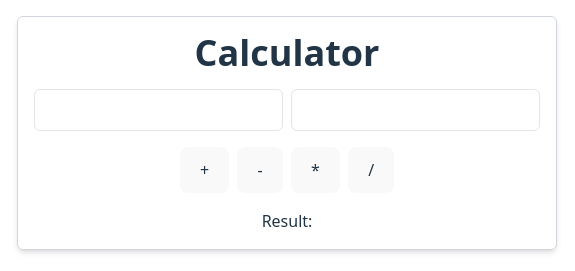
Test: HomePage Calculator › multiplies two numbers correctly
This screenshot has width=575, height=271.
Type "4" into the 1st field.
click(158, 110); type("4")  # box x1=34 y1=89 x2=283 y2=131
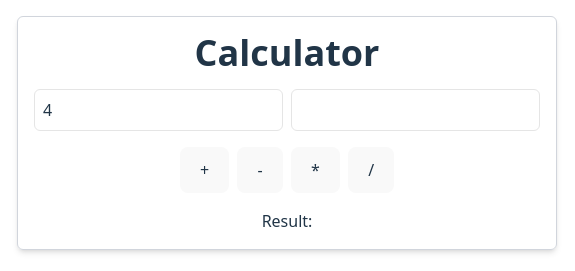
Type "3" into the 2nd field.
click(416, 110); type("3")  # box x1=291 y1=89 x2=540 y2=131
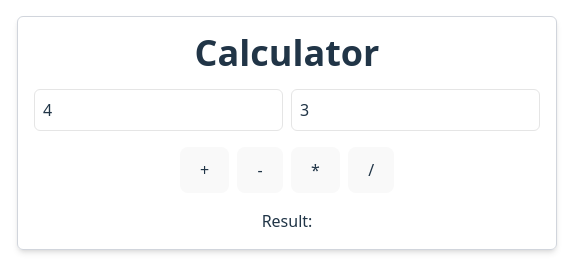
Click the button "*".
click(315, 170)  # box x1=291 y1=147 x2=340 y2=193
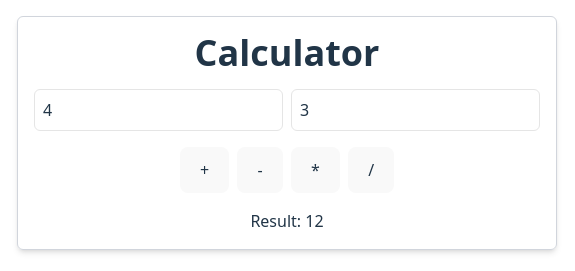
Check: the text "Result: 12" is shown, box x1=250 y1=209 x2=324 y2=233
